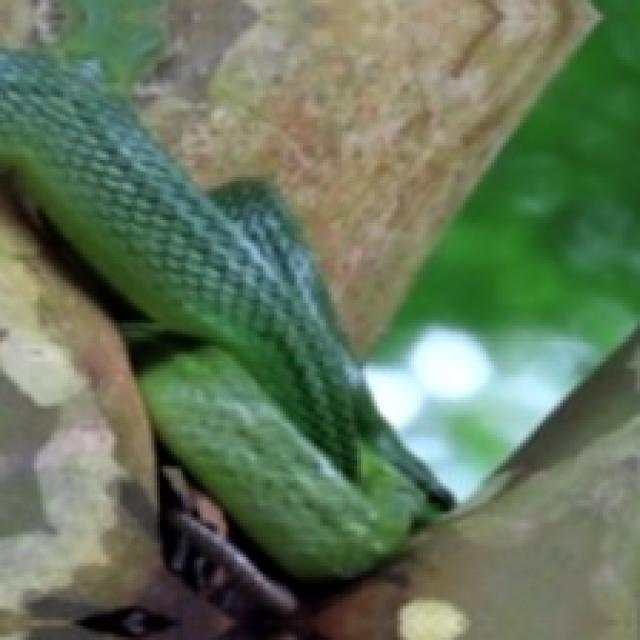red-tailed green ratsnake: (0, 51, 451, 574)
